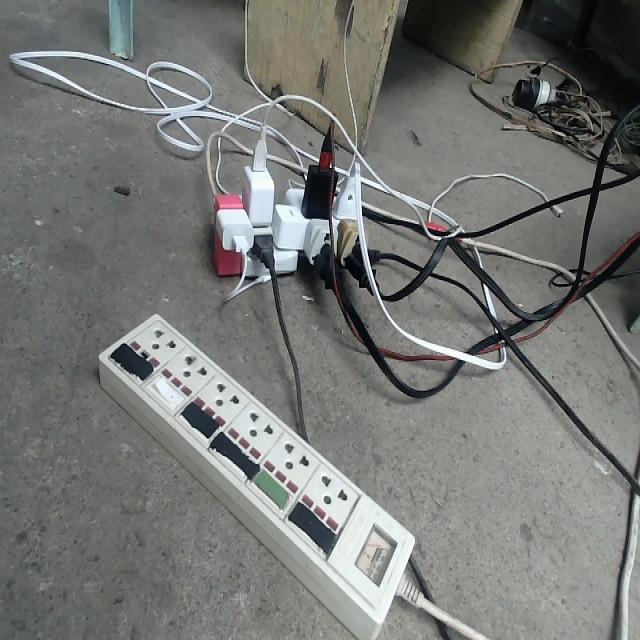-: (200, 144, 381, 289)
